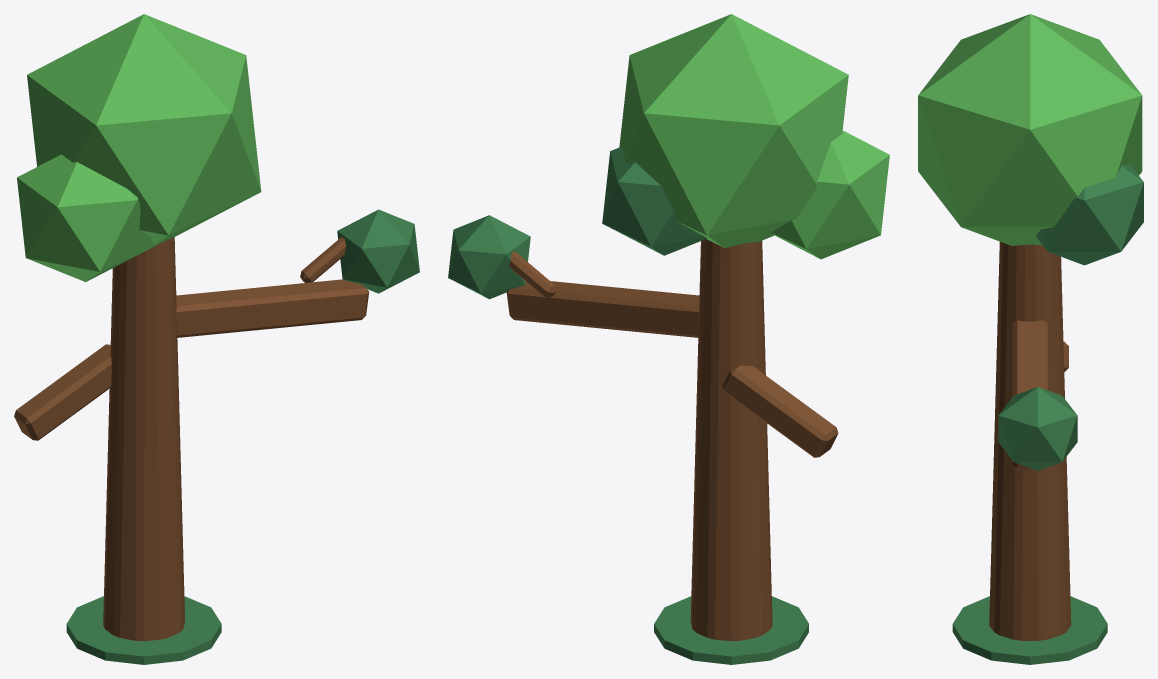
File: CatCafe_Park_RescueTree.glb
3 views of the same model, side by side, from view 1: azimuth 30°, elevation 25°; view 2: azimuth 150°, elevation 25°; view 3: azimuth 270°, elevation 25° (orthographic).
Visible parts, largest first — view 1: CatCafe_Park_RescueTree_Trunk, CatCafe_Park_RescueTree_Branch; view 2: CatCafe_Park_RescueTree_Trunk, CatCafe_Park_RescueTree_Branch; view 3: CatCafe_Park_RescueTree_Trunk, CatCafe_Park_RescueTree_Branch.
Boxes of the visible parts, x1,y1,x2,y2 form: CatCafe_Park_RescueTree_Trunk: (14, 14, 261, 664); CatCafe_Park_RescueTree_Branch: (176, 209, 419, 337); CatCafe_Park_RescueTree_Trunk: (602, 14, 889, 664); CatCafe_Park_RescueTree_Branch: (448, 215, 699, 337); CatCafe_Park_RescueTree_Trunk: (918, 14, 1143, 664); CatCafe_Park_RescueTree_Branch: (998, 320, 1077, 470).
Bounding box in the file's own units: 6.08 × 8.8 × 2.91.
Materials: 1 (1 with a texture image).
